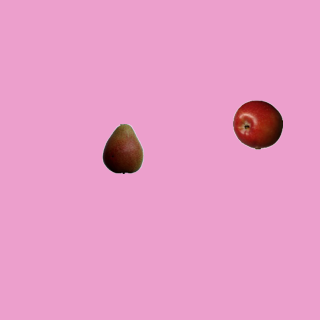Apple Braeburn: (232, 99, 282, 149)
Pear Forelle: (97, 123, 147, 173)
